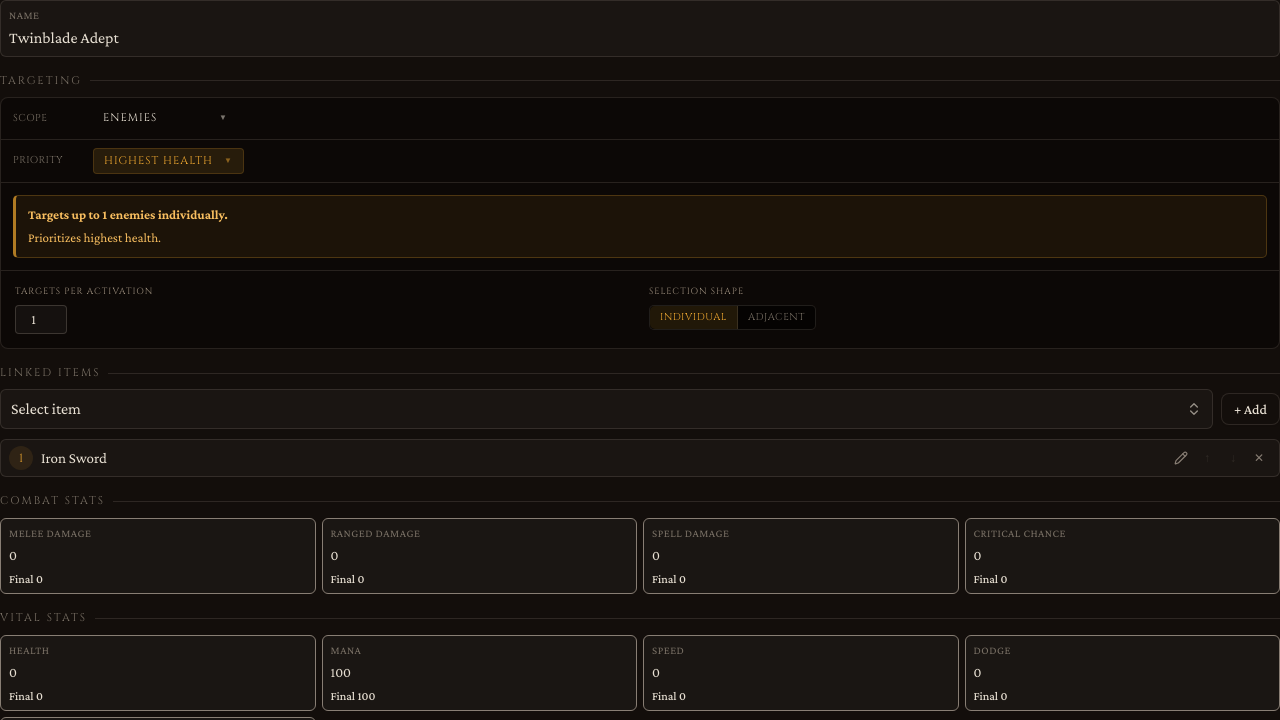
it: UnitWorkspaceForm › allows duplicate linked items
Click the dropdown with test id "unit-item-picker". click: (46, 409)
box: x1=0 y1=389 x2=1213 y2=429
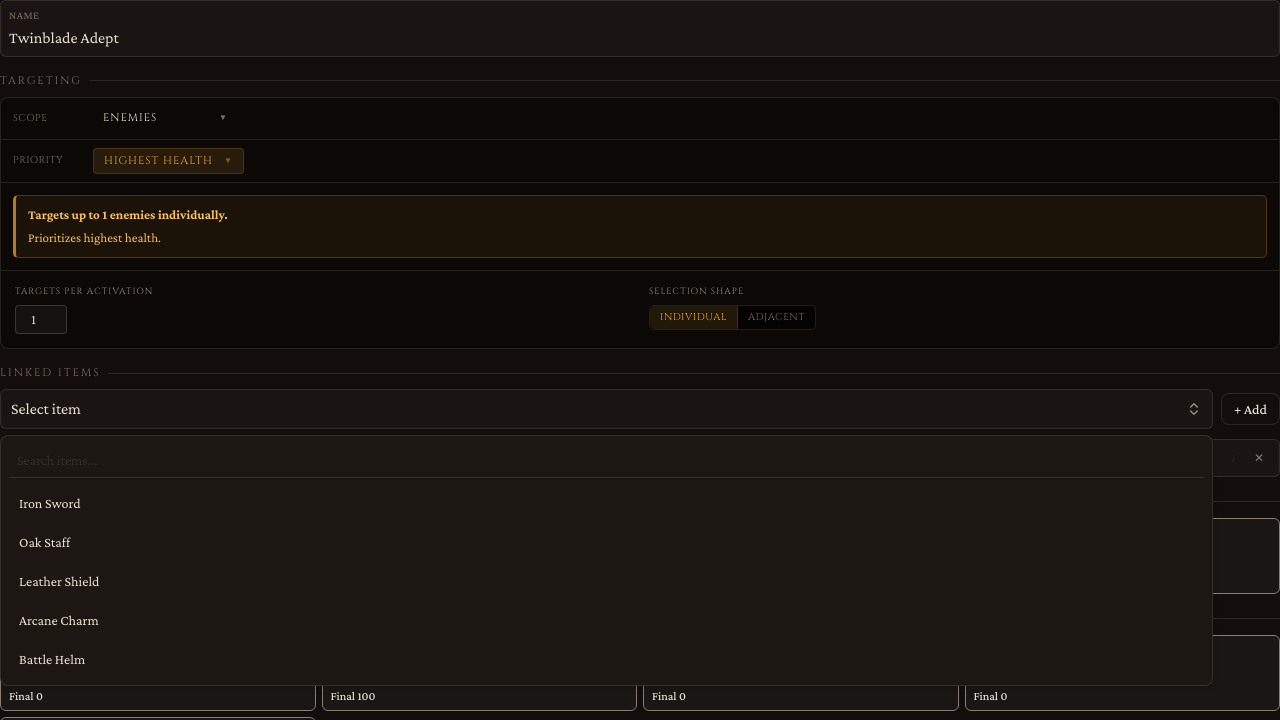
expect the option with test id "unit-item-picker-option-it-1" is shown: met, box x1=9 y1=486 x2=1204 y2=521
expect the option with test id "unit-item-picker-option-it-2" is shown: met, box x1=9 y1=525 x2=1204 y2=560
